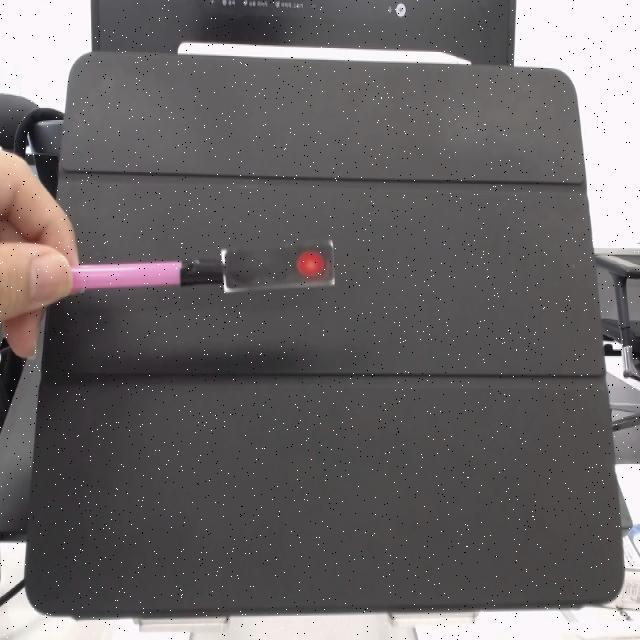traffic light: (222, 241, 336, 295)
